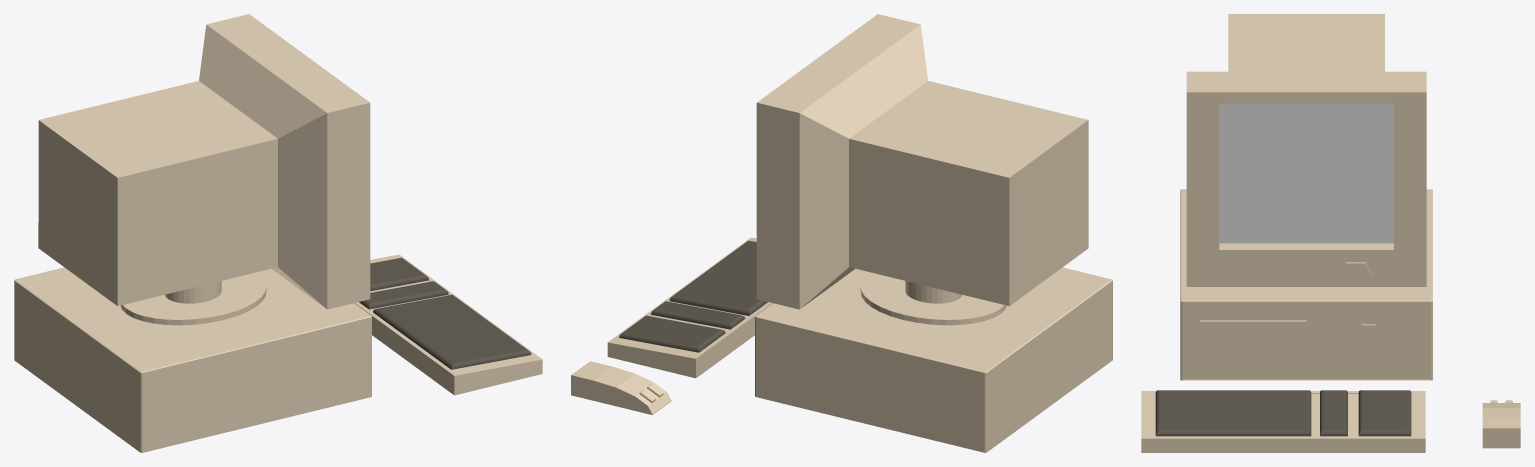
The model's file is Desktop PC Setup.fbx.
The picture shows the model from 3 angles, left to right: view 1: azimuth 30°, elevation 25°; view 2: azimuth 150°, elevation 25°; view 3: azimuth 270°, elevation 25°; orthographic projection.
Parts seen in each view (by area): view 1: CRT Monitor, Desktop PC, Keyboard, Monitor Stand; view 2: CRT Monitor, Desktop PC, Keyboard, Monitor Stand, Mouse; view 3: CRT Monitor, Desktop PC, Keyboard, Mouse.
Part boxes in pixels (x1=…): CRT Monitor: x1=38, y1=14, x2=370, y2=309; Desktop PC: x1=14, y1=267, x2=371, y2=452; Keyboard: x1=354, y1=254, x2=542, y2=395; Monitor Stand: x1=120, y1=273, x2=266, y2=325; CRT Monitor: x1=756, y1=14, x2=1088, y2=309; Desktop PC: x1=755, y1=267, x2=1112, y2=452; Keyboard: x1=607, y1=237, x2=772, y2=378; Monitor Stand: x1=860, y1=273, x2=1006, y2=325; Mouse: x1=571, y1=361, x2=671, y2=414; CRT Monitor: x1=1186, y1=14, x2=1426, y2=286; Desktop PC: x1=1180, y1=189, x2=1432, y2=380; Keyboard: x1=1141, y1=390, x2=1425, y2=452; Mouse: x1=1482, y1=400, x2=1520, y2=448.
Bounding box in the file's own units: 138 × 101 × 120.
